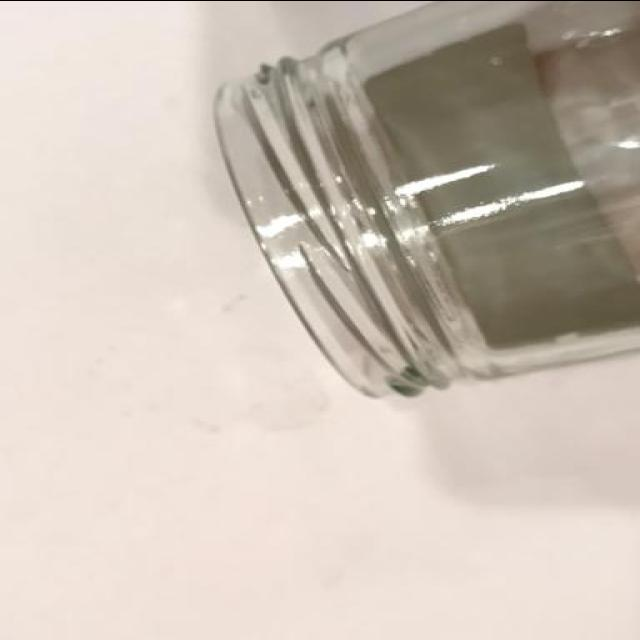litter: (204, 1, 638, 405)
